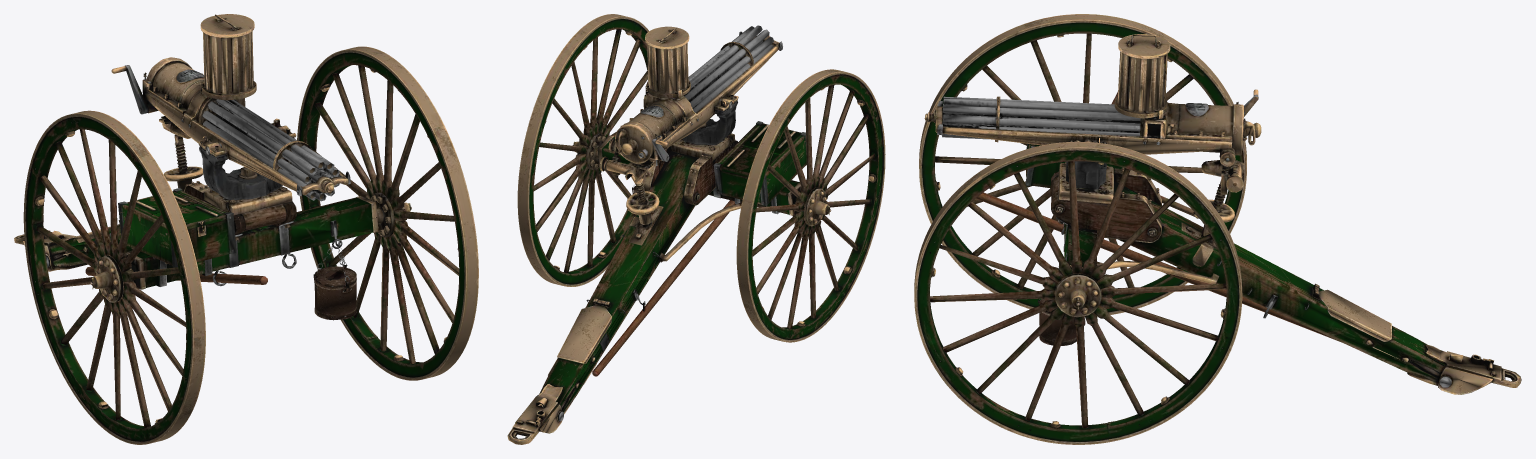
File: machinegun01.glb
The picture shows the model from 3 angles, left to right: view 1: azimuth 30°, elevation 25°; view 2: azimuth 150°, elevation 25°; view 3: azimuth 270°, elevation 25°; orthographic projection. The views are drawn at different scales.
Parts seen in each view (by area): view 1: defaultMaterial; view 2: defaultMaterial; view 3: defaultMaterial.
Part boxes in pixels (x1,y1,x2,y2): defaultMaterial: (14,14,478,444); defaultMaterial: (507,14,885,444); defaultMaterial: (914,14,1521,444).
Size of the model in its own units: 1.17 by 1.29 by 2.
1 material, 1 textured.
